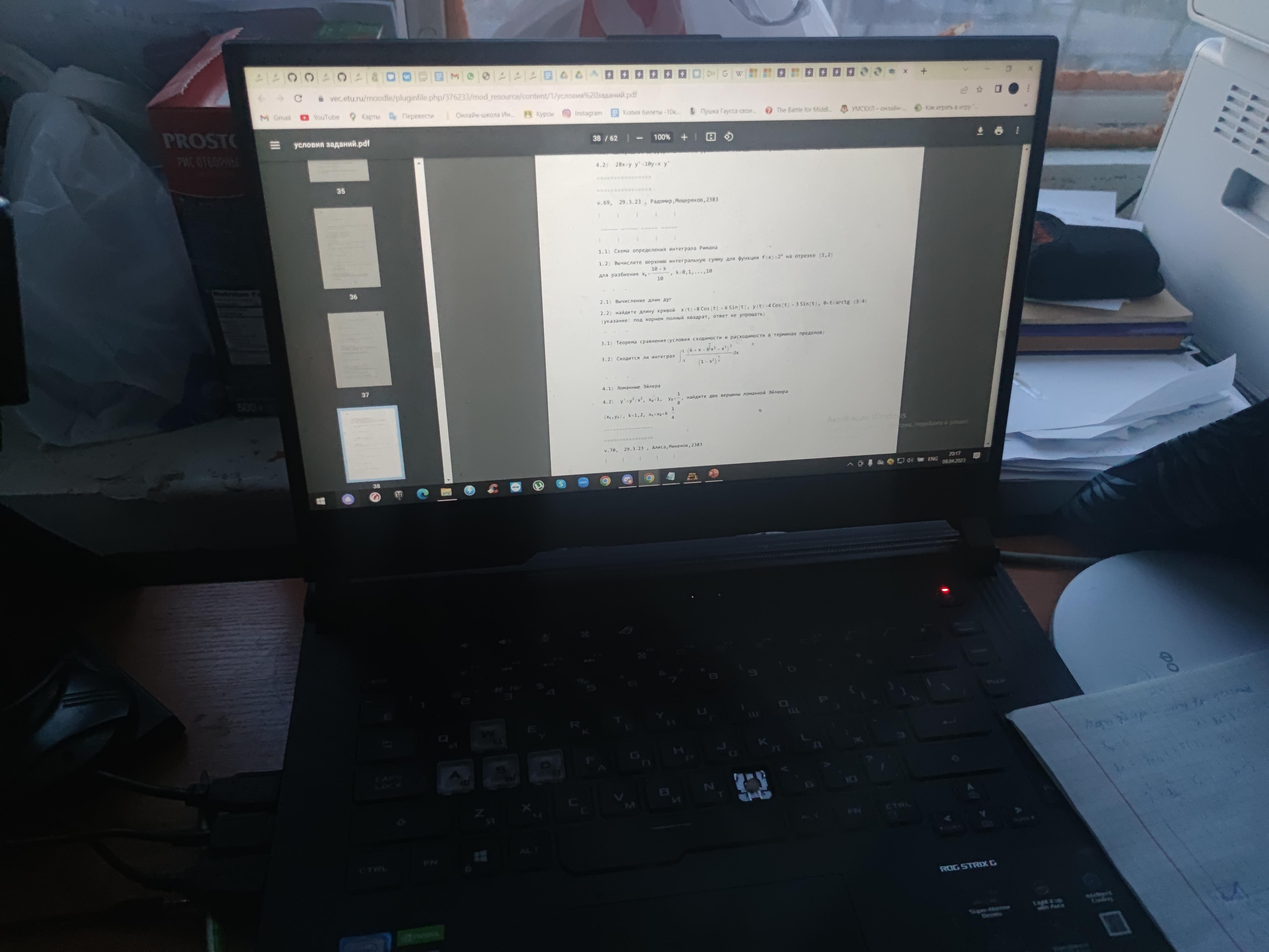monitor: (210, 26, 1065, 543)
